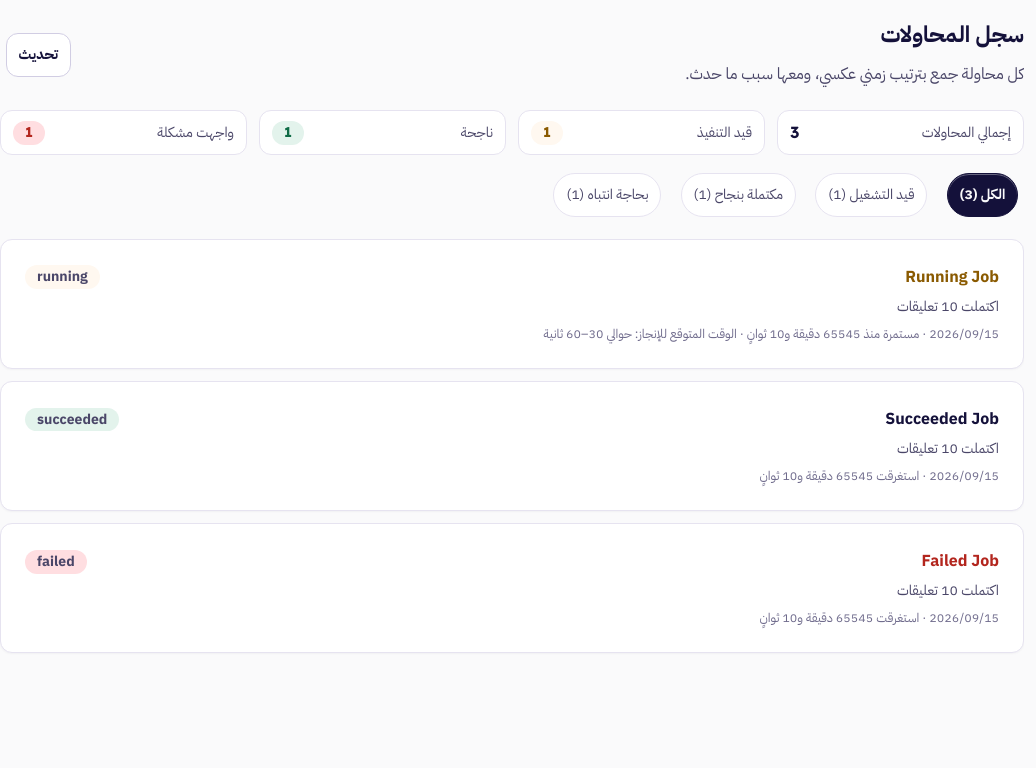
Attempts component › renders summary counters and filters entries by status
The image size is (1036, 768).
Expected: the text "Running Job" is shown, [905,264,999,291]
Expected: the text "Succeeded Job" is shown, [885,406,999,433]
What coordinates should you click on to do the following:
click the tab "قيد التشغيل (1)"
I would click on:
 (871, 195)
Its box is [815,173,928,217].
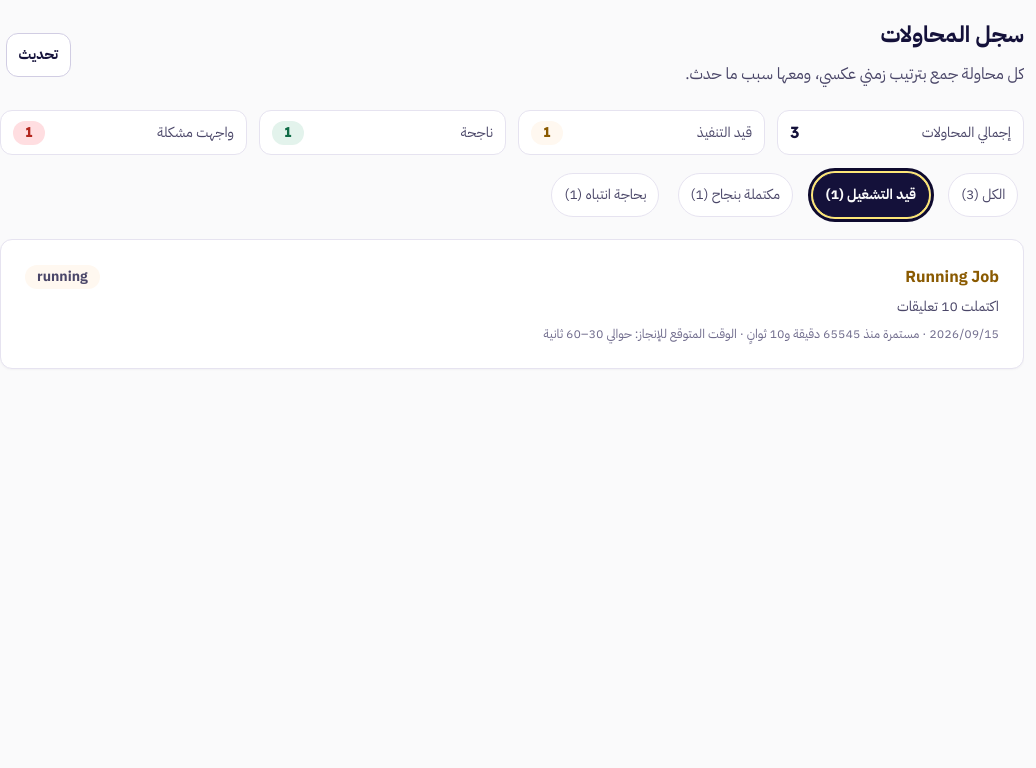
Expected: the text "Running Job" is shown, [905,264,999,291]
Result: the text "Succeeded Job" is gone
Result: the text "Failed Job" is gone
What coordinates should you click on to do the following:
click the tab "بحاجة انتباه (1)"
I would click on:
 (605, 195)
Its box is [551,173,659,217].
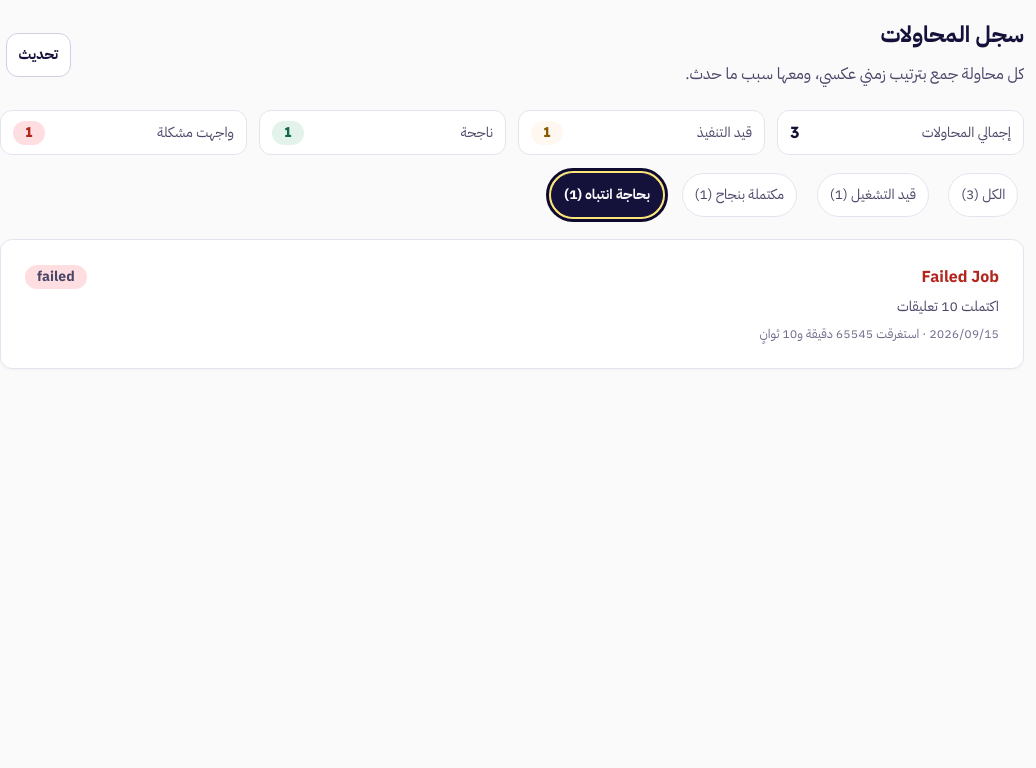
Expected: the text "Succeeded Job" is not shown
Result: the text "Running Job" is gone
Result: the text "Failed Job" is shown at [922,264,999,291]
